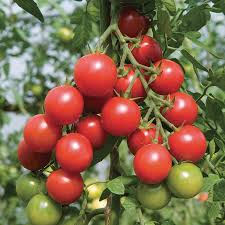stems: (88, 25, 111, 53), (120, 72, 137, 97), (31, 159, 54, 176), (159, 114, 178, 130), (151, 93, 172, 107), (137, 62, 158, 74), (138, 109, 151, 127), (117, 52, 126, 72), (152, 119, 159, 143), (124, 36, 140, 43)
tomato: (73, 53, 117, 96), (100, 97, 142, 138), (43, 84, 84, 124), (23, 113, 62, 153), (132, 143, 173, 181), (167, 124, 206, 163), (55, 133, 94, 171), (46, 169, 85, 205), (167, 162, 204, 198), (146, 59, 184, 94), (73, 113, 108, 150), (127, 121, 163, 156), (26, 193, 64, 225), (17, 137, 52, 171), (160, 91, 197, 123), (114, 6, 149, 37), (127, 34, 162, 64), (134, 182, 171, 209), (116, 65, 146, 98), (15, 172, 47, 201), (84, 92, 115, 113)
